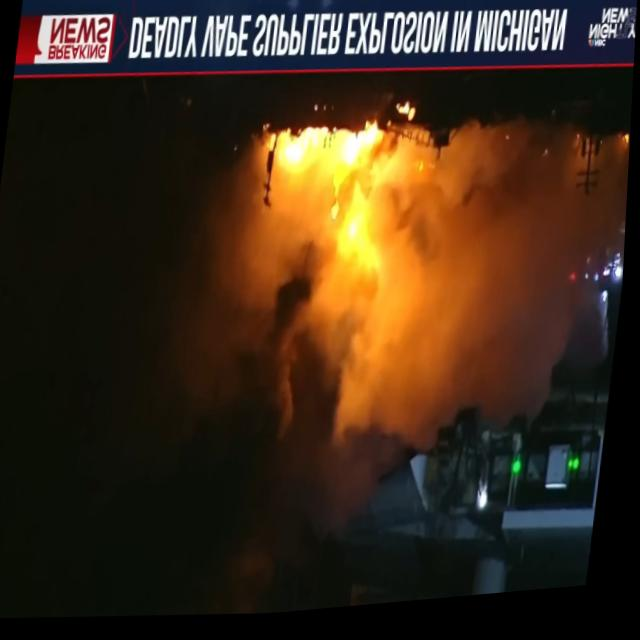Fire: (167, 79, 611, 561)
